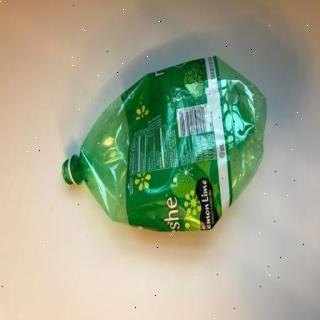Plastic-bottle: (60, 54, 270, 238)
